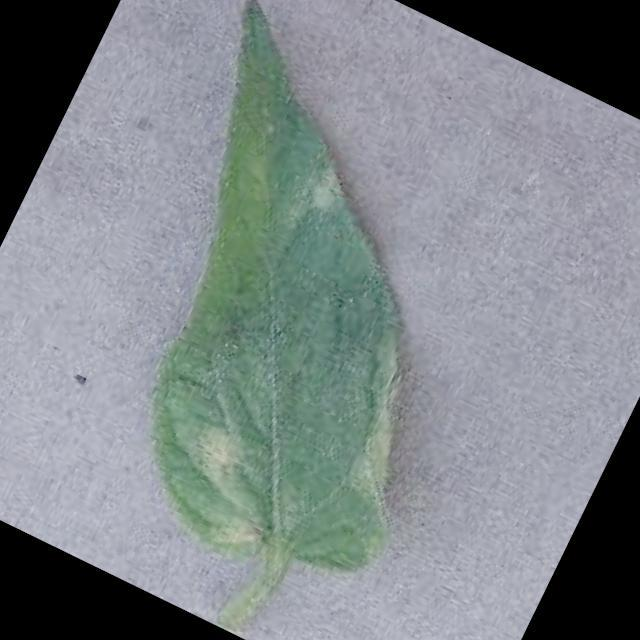Tomato mold leaf: (25, 0, 566, 607)
